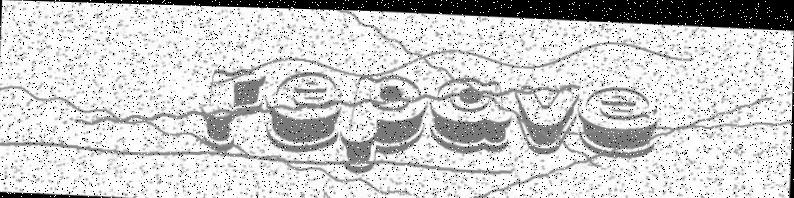a: (423, 69, 512, 153)
e: (264, 69, 344, 150), (574, 83, 662, 155)
p: (339, 68, 430, 177)
r: (198, 62, 269, 159)
v: (507, 78, 579, 155)
